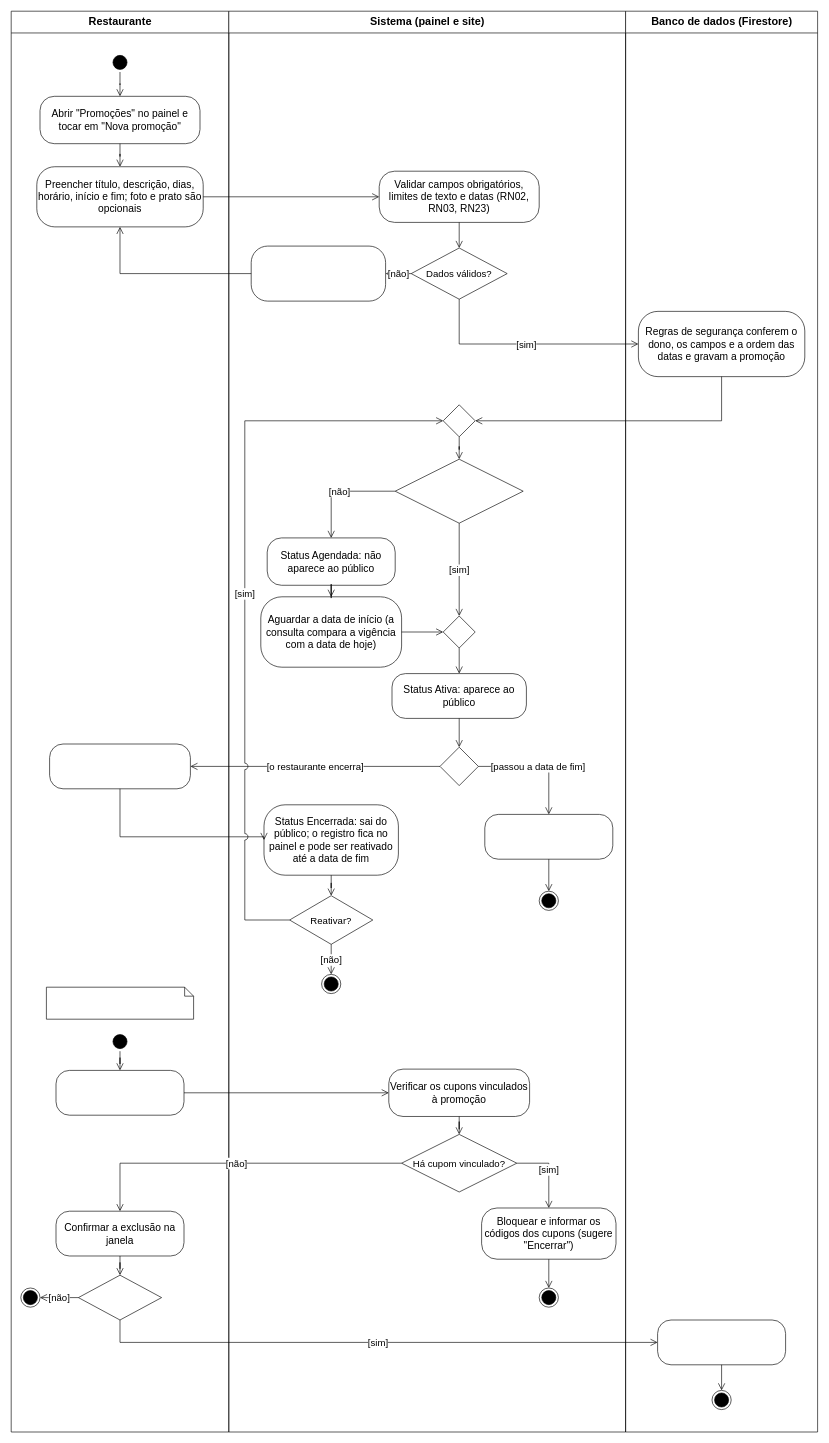
The diagram is 829 pixels wide and 1443 high, and some of its shapes have lost their labels. Each missing label, with the centre of its shape:
Confirmou?: [120,1297]
Data de início já chegou?: [459,491]
Excluir a promoção do banco: [721,1342]
Exclusão: pode ser pedida em qualquer status (RN25).: [120,1003]
Mostrar a mensagem junto ao campo; nada é gravado: [318,273]
Status Expirada: sai do público: [548,836]
Tocar em "Encerrar" e confirmar: [119,766]
Tocar em "Excluir": [119,1092]
